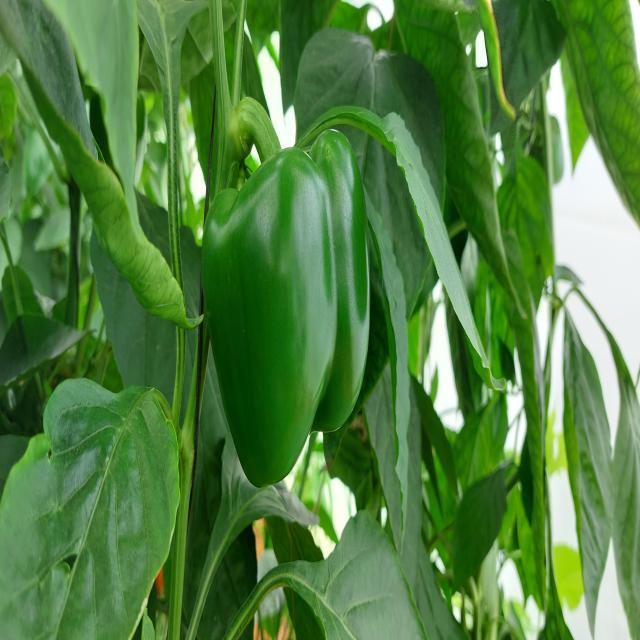Green--Not-ready-to-harvest: (208, 128, 368, 478)
